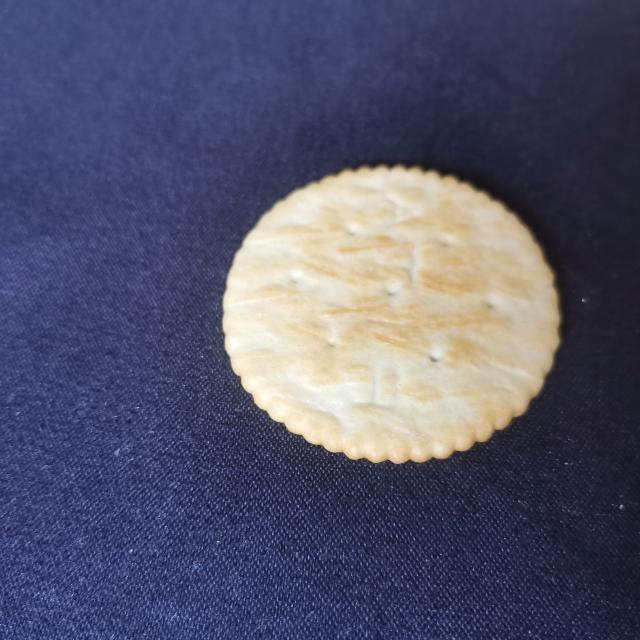Intact: (209, 161, 569, 477)
